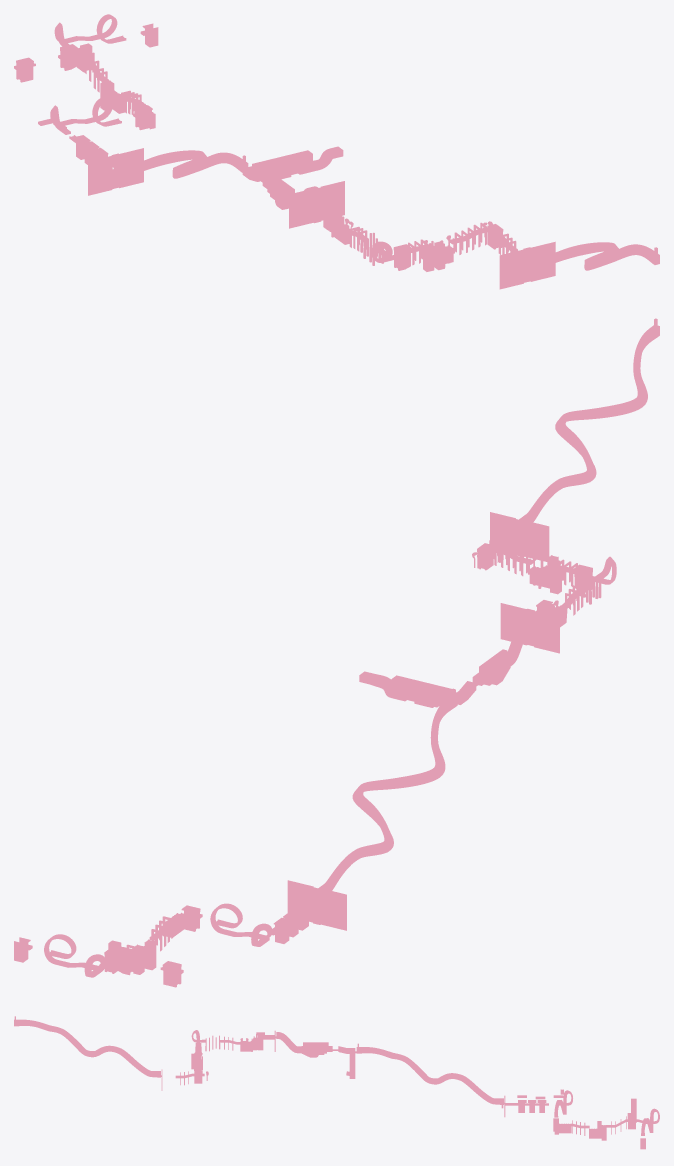
3 renders of one model, top to bottom at view 1: azimuth 30°, elevation 25°; view 2: azimuth 150°, elevation 25°; view 3: azimuth 270°, elevation 25°, orthographic. The views are drawn at different scales.
Size of the model in its own units: 5618 by 6400 by 28550.
